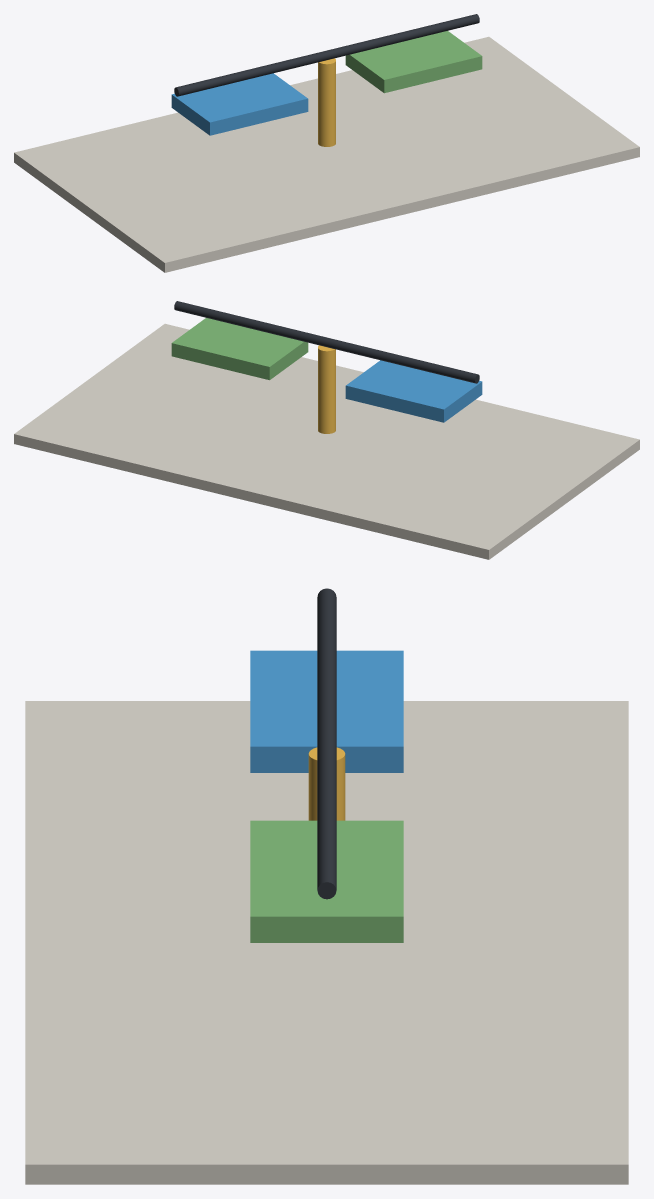
The model's file is math-advanced-equation.glb.
The picture shows the model from 3 angles, top to bottom: view 1: azimuth 30°, elevation 25°; view 2: azimuth 150°, elevation 25°; view 3: azimuth 270°, elevation 25°; orthographic projection. The views are drawn at different scales.
Visible parts, largest first — view 1: advanced-math-base, left-expression-pan, right-value-pan, balance-beam-equals, equal-sign-pivot; view 2: advanced-math-base, left-expression-pan, right-value-pan, balance-beam-equals, equal-sign-pivot; view 3: advanced-math-base, right-value-pan, left-expression-pan, balance-beam-equals, equal-sign-pivot.
Boxes of the visible parts, x1,y1,x2,y2 form: advanced-math-base: (14,36,639,272); left-expression-pan: (171,73,308,135); right-value-pan: (345,31,482,93); balance-beam-equals: (174,14,479,96); equal-sign-pivot: (318,58,335,146); advanced-math-base: (14,323,639,559); left-expression-pan: (345,360,482,422); right-value-pan: (171,318,308,380); balance-beam-equals: (174,301,479,383); equal-sign-pivot: (318,345,335,433); advanced-math-base: (25,701,628,1184); right-value-pan: (250,820,403,942); left-expression-pan: (250,650,403,772); balance-beam-equals: (317,588,336,899); equal-sign-pivot: (308,747,345,820).
Size of what is drawn, in the model's own units: 3 by 0.656 by 1.65.
